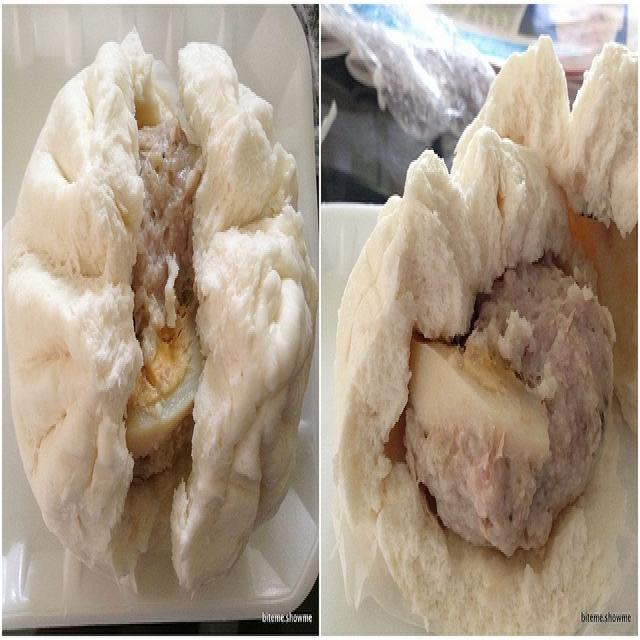带馅早点: (14, 32, 612, 628)
